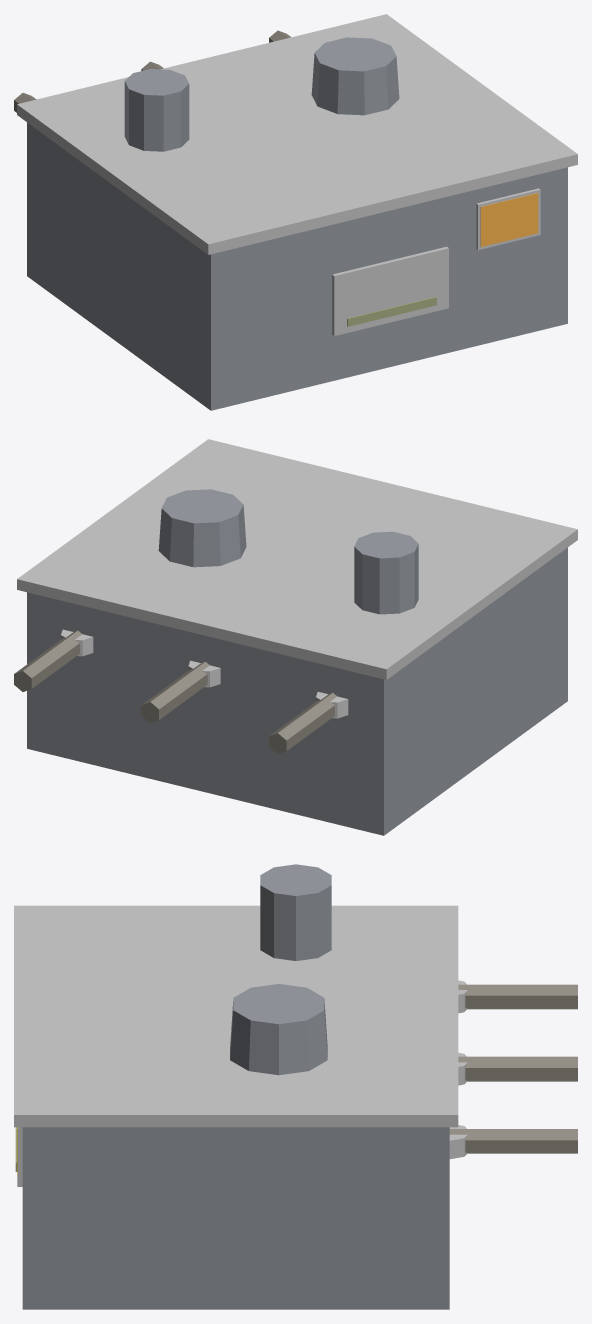
File: paste_dispenser.obj
3 renders of one model, top to bottom at view 1: azimuth 30°, elevation 25°; view 2: azimuth 150°, elevation 25°; view 3: azimuth 270°, elevation 25°, orthographic. The views are drawn at different scales.
Parts seen in each view (by area): view 1: paste_dispenser; view 2: paste_dispenser; view 3: paste_dispenser.
Boxes of the visible parts, x1,y1,x2,y2 form: paste_dispenser: (14, 14, 577, 410); paste_dispenser: (14, 439, 577, 835); paste_dispenser: (14, 864, 577, 1309).
Bounding box in the file's own units: 2.9 × 1.7 × 3.3.
